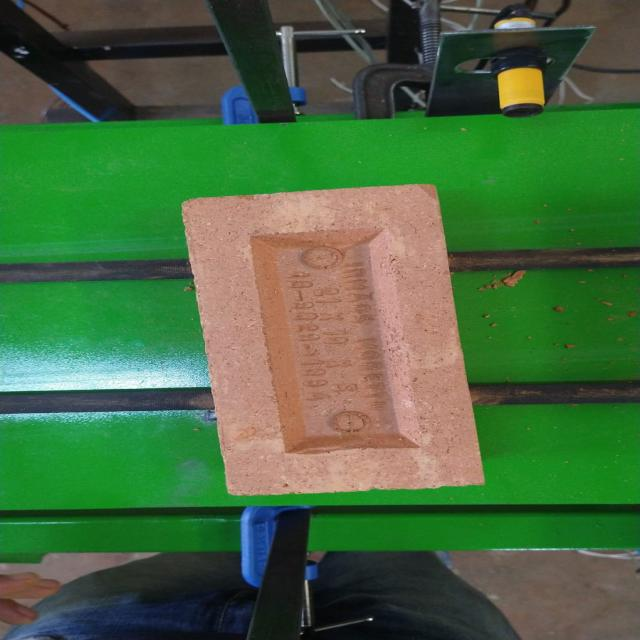bricks: (182, 185, 488, 496)
